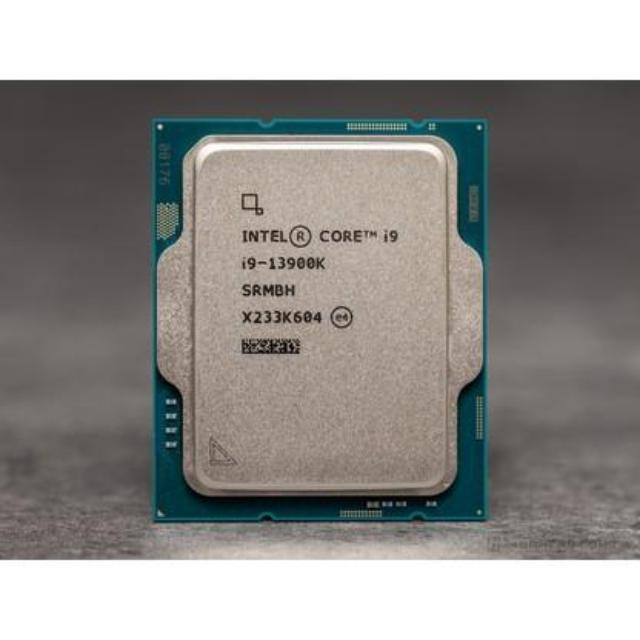CPU: (160, 127, 482, 516)
